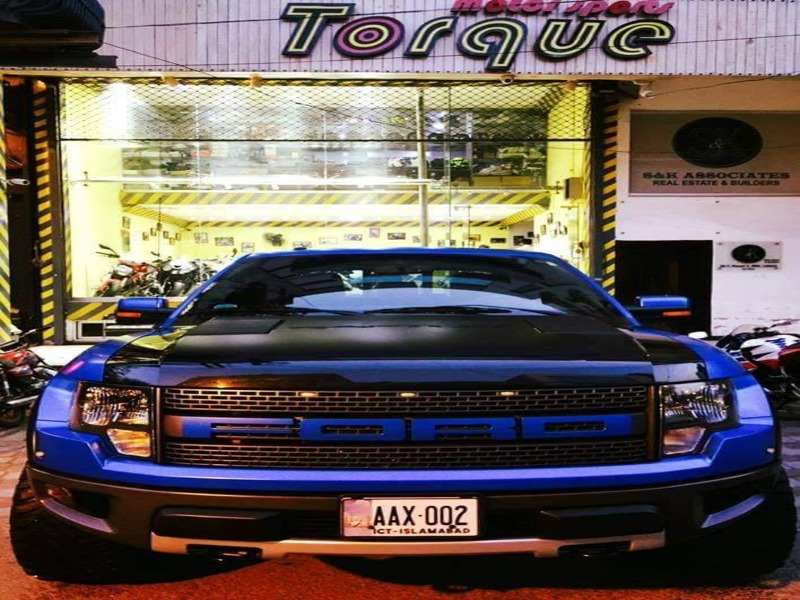License Plate: (337, 491, 485, 546)
